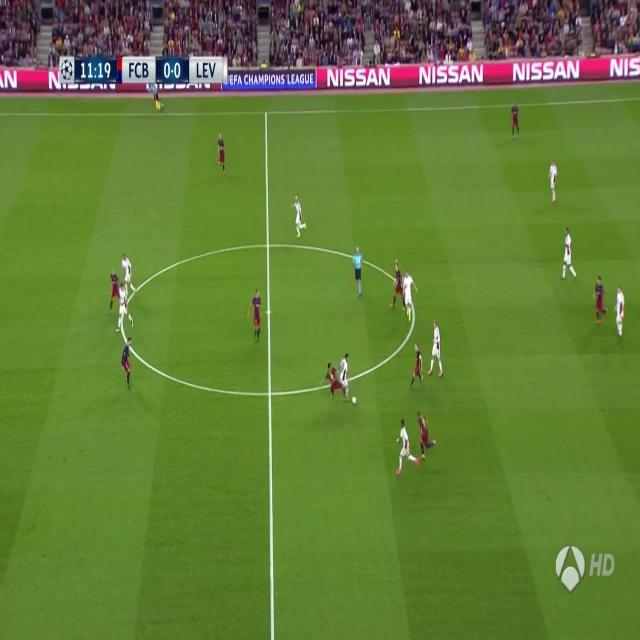Ball: (351, 394, 359, 408)
Player: (393, 418, 420, 478), (415, 408, 440, 464), (244, 286, 265, 348), (426, 319, 445, 383), (316, 360, 344, 403), (592, 273, 612, 331), (560, 222, 578, 284), (115, 281, 135, 336), (290, 192, 309, 242), (403, 268, 420, 322), (613, 282, 627, 343), (407, 340, 423, 392), (122, 253, 140, 298), (389, 256, 403, 311), (120, 335, 133, 393), (339, 349, 352, 401), (546, 159, 559, 207), (108, 267, 121, 314), (215, 132, 228, 177), (509, 102, 521, 141)
Referee: (351, 243, 365, 302), (146, 80, 166, 116)
